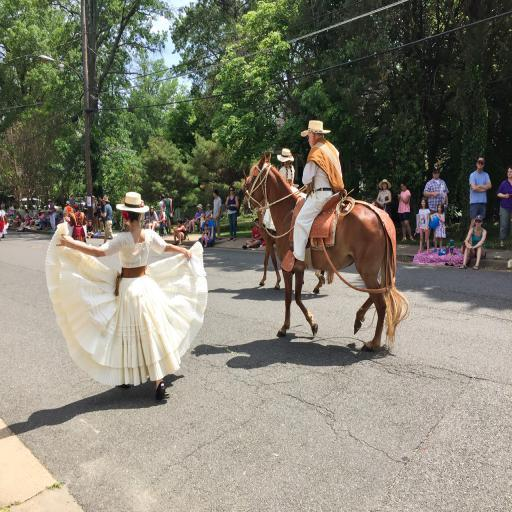horse: (239, 151, 409, 351), (239, 170, 334, 294)
